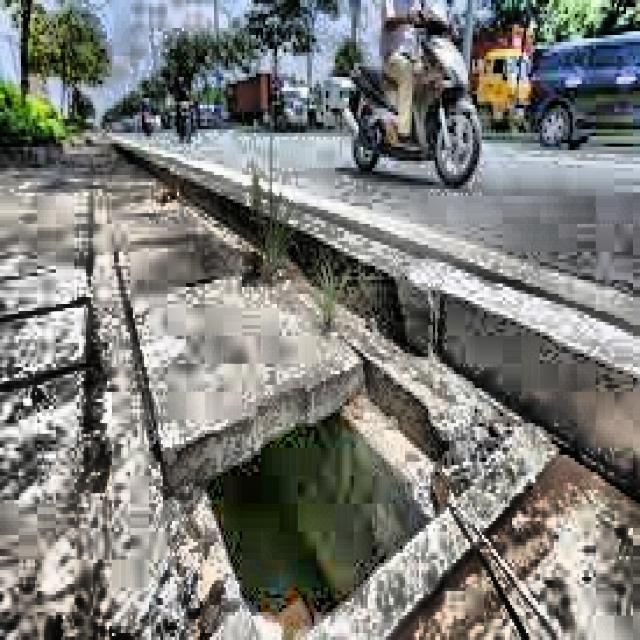Open Manhole: (133, 283, 470, 637)
